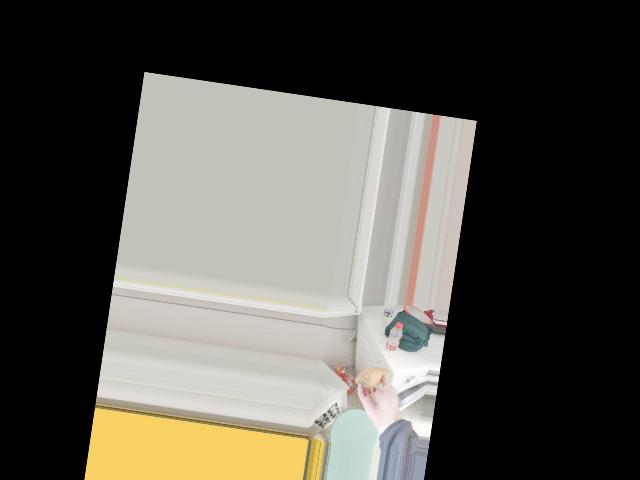sweet_potato: (357, 364, 389, 393)
